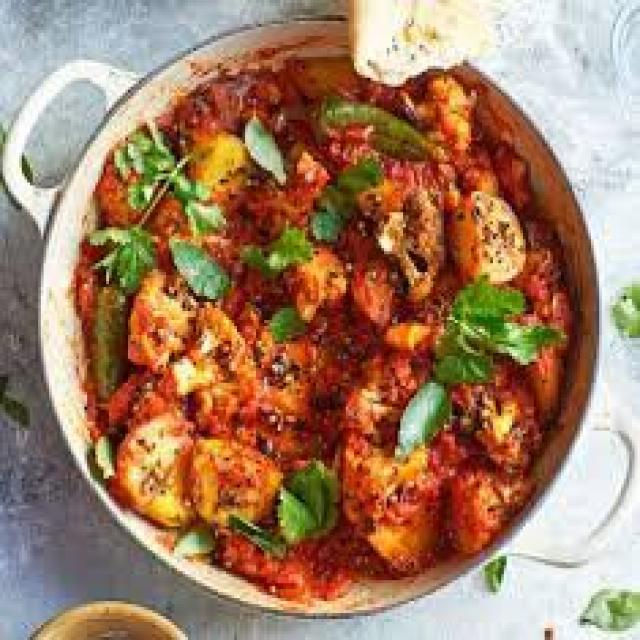Aloo Gobi: (120, 107, 526, 539)
